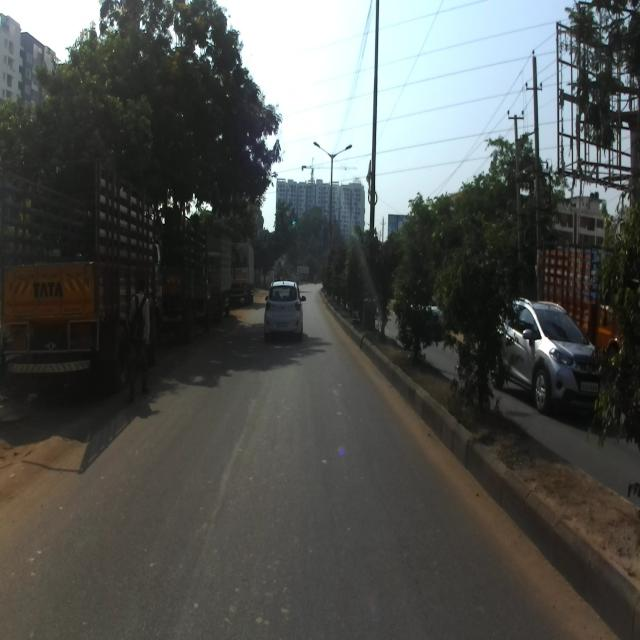Car_Honda: (488, 296, 602, 412)
Car_Hyundai: (263, 279, 306, 343)
truck: (2, 158, 166, 395)
